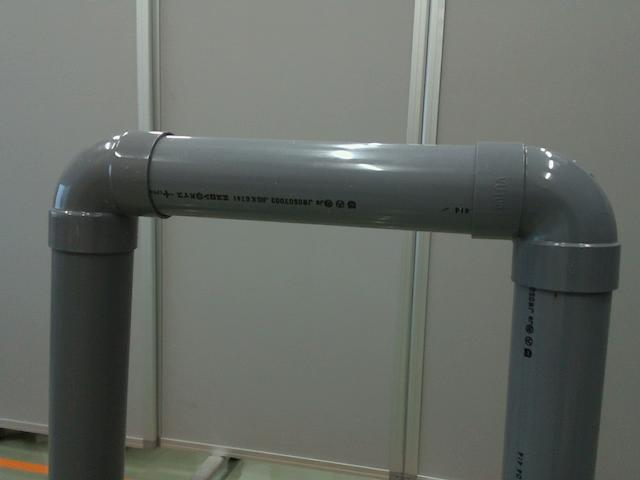bent: (475, 137, 619, 286), (48, 129, 171, 252)
